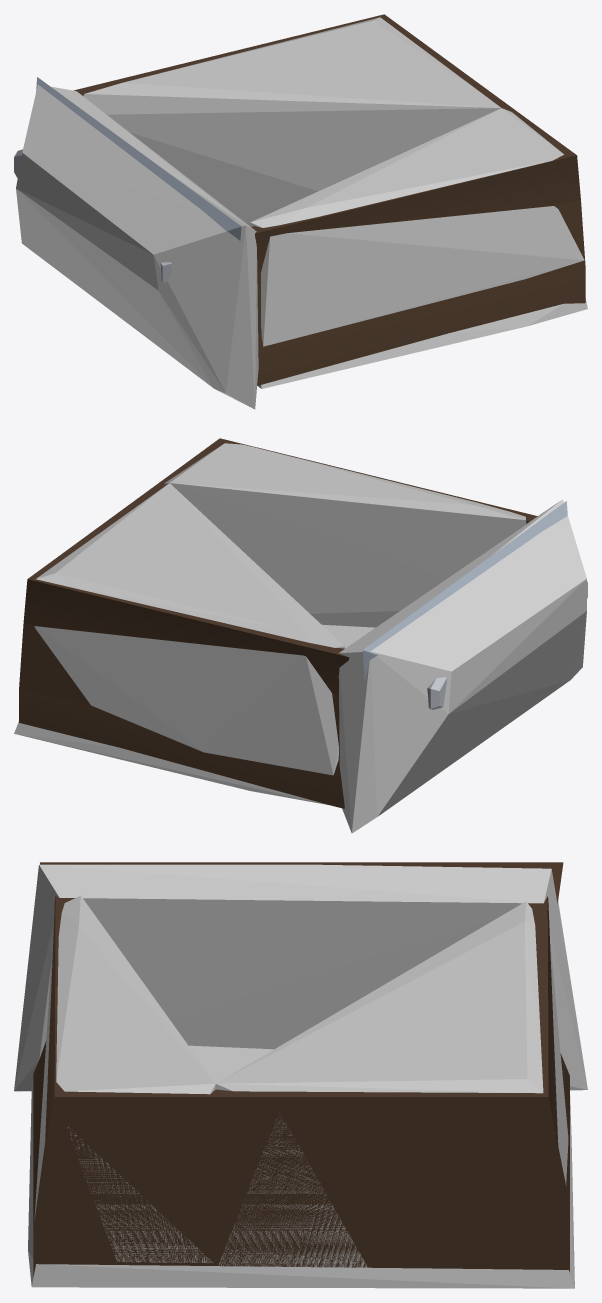
The model's file is SM_Prop_Bedside_Table_01_Drawer_02.fbx.
The picture shows the model from 3 angles, top to bottom: view 1: azimuth 30°, elevation 25°; view 2: azimuth 150°, elevation 25°; view 3: azimuth 270°, elevation 25°; orthographic projection. The views are drawn at different scales.
Parts seen in each view (by area): view 1: SM_Prop_Bedside_Table_01_Drawer_02_ConvexHulls, SM_Prop_Bedside_Table_01_Drawer_02; view 2: SM_Prop_Bedside_Table_01_Drawer_02_ConvexHulls, SM_Prop_Bedside_Table_01_Drawer_02; view 3: SM_Prop_Bedside_Table_01_Drawer_02_ConvexHulls, SM_Prop_Bedside_Table_01_Drawer_02.
Boxes of the visible parts, x1,y1,x2,y2 form: SM_Prop_Bedside_Table_01_Drawer_02_ConvexHulls: (16,17,587,409); SM_Prop_Bedside_Table_01_Drawer_02: (14,14,585,406); SM_Prop_Bedside_Table_01_Drawer_02_ConvexHulls: (14,443,586,833); SM_Prop_Bedside_Table_01_Drawer_02: (19,438,587,808); SM_Prop_Bedside_Table_01_Drawer_02_ConvexHulls: (14,864,587,1288); SM_Prop_Bedside_Table_01_Drawer_02: (33,862,569,1276).
Size of the model in its own units: 60.74 by 59.12 by 25.84.
Materials: 2 (1 with a texture image).
